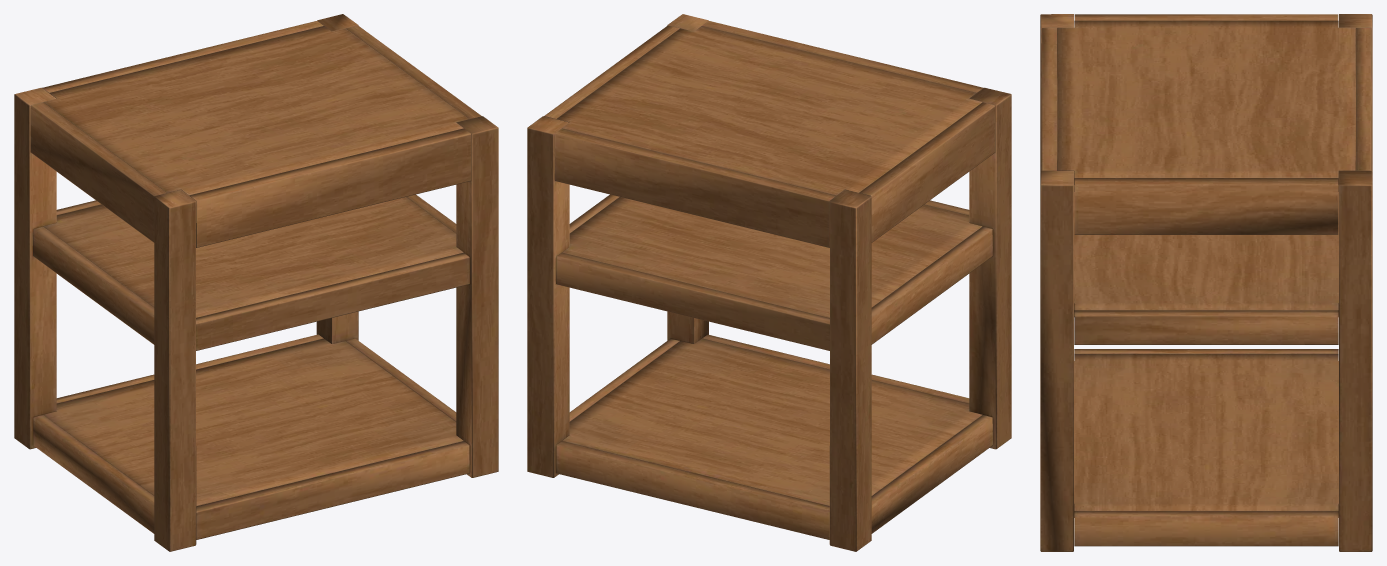
File: table-m.glb
3 renders of one model, left to right at view 1: azimuth 30°, elevation 25°; view 2: azimuth 150°, elevation 25°; view 3: azimuth 270°, elevation 25°, orthographic. The views are drawn at different scales.
Visible parts, largest first — view 1: side_table_01; view 2: side_table_01; view 3: side_table_01.
Part boxes in pixels (bbox=[...]): side_table_01: bbox=[14, 14, 498, 551]; side_table_01: bbox=[527, 14, 1011, 551]; side_table_01: bbox=[1040, 14, 1372, 551].
Size of the model in its own units: 0.55 by 0.5507 by 0.45.
Materials: 1 (1 with a texture image).
